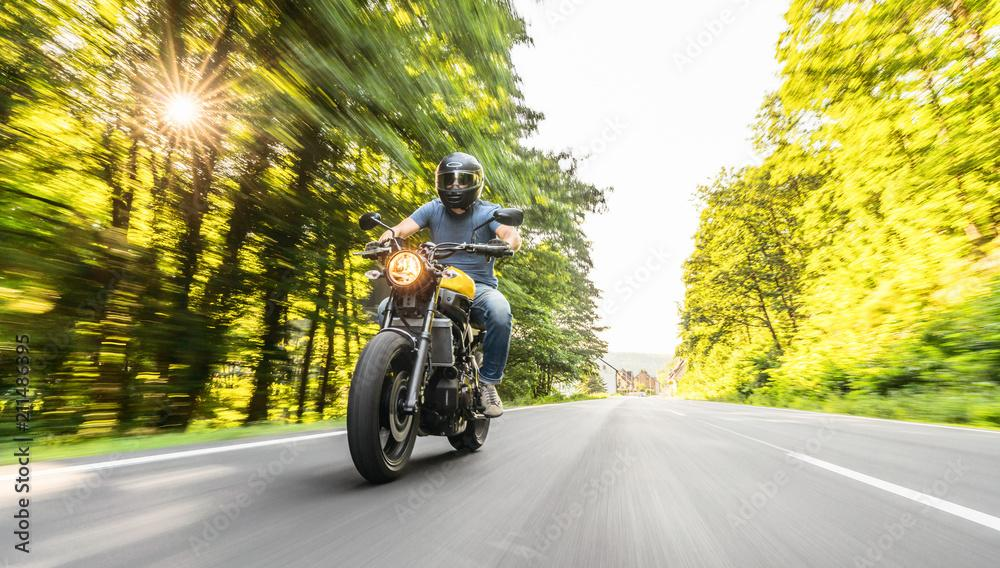helmet: (435, 151, 485, 209)
